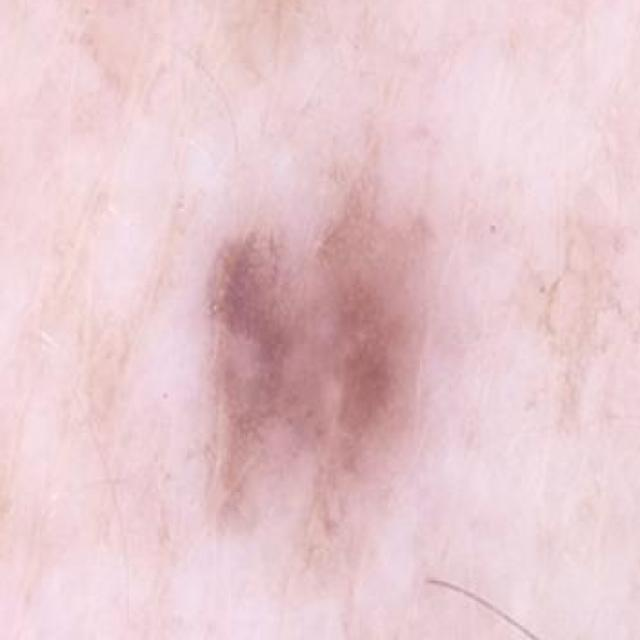BKL: (153, 122, 470, 605)
